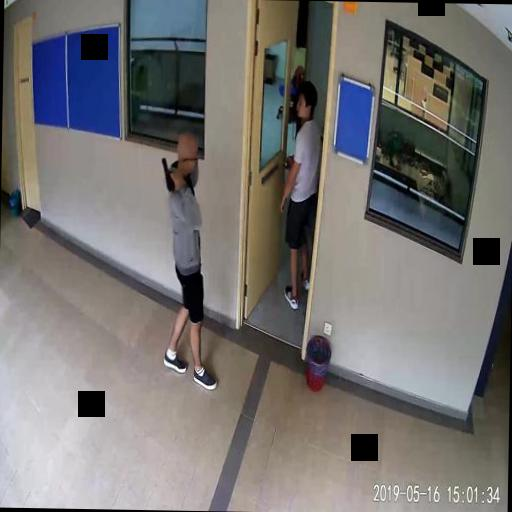Handgun: (160, 156, 179, 190)
